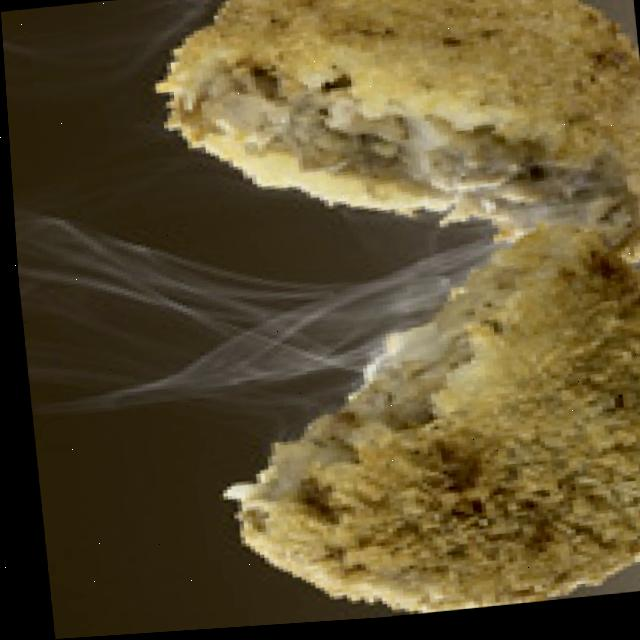炸货点心: (136, 0, 640, 633)
